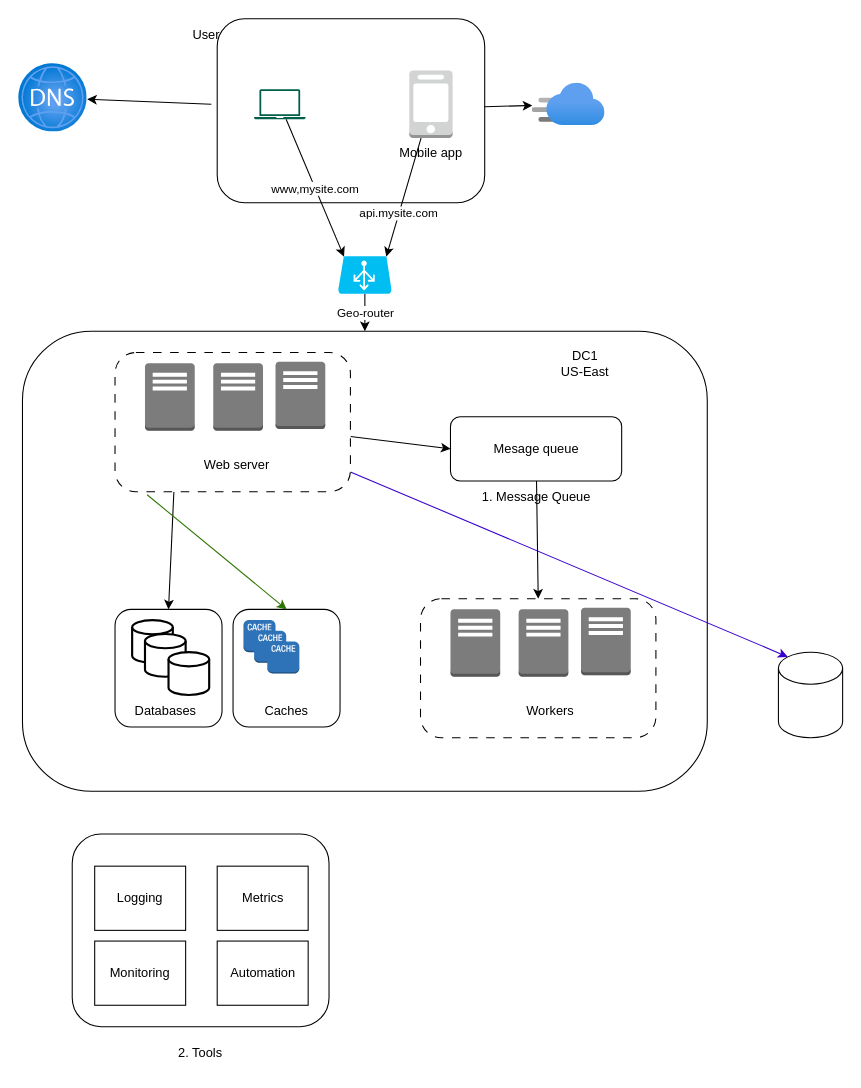
Image size: 861x1088. Some labels were removed from this diagram. The shapes that lost their labels are listed below. From the top down, each one's centre as x and y in pixels, then its label:
At point (279, 104): "Web browser".
At point (568, 103): "CDN".
At point (810, 694): "NoSQL".
